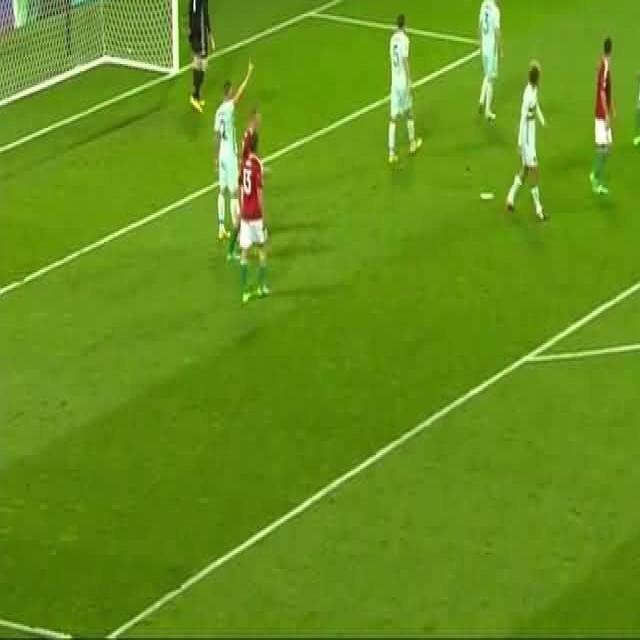player-white: (212, 53, 254, 241), (507, 57, 545, 221), (387, 12, 423, 165), (227, 108, 261, 264), (241, 133, 271, 301), (590, 36, 614, 197), (187, 0, 215, 112), (478, 0, 500, 121), (632, 7, 640, 147)
